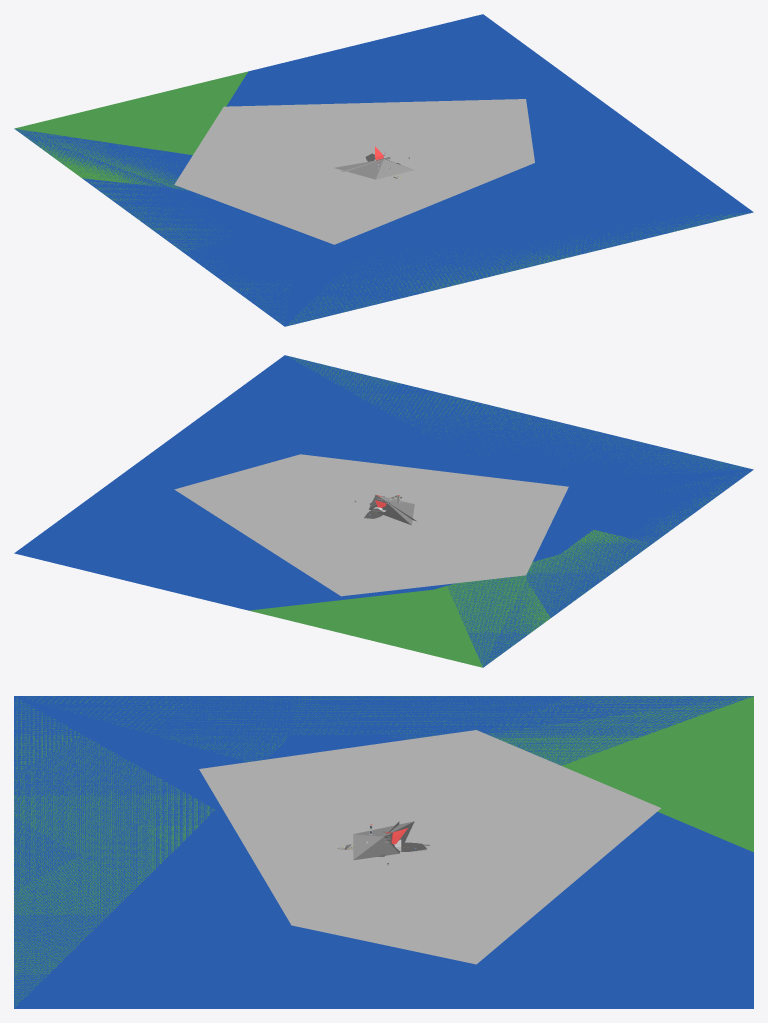
3 views of the same model, one above another, from view 1: azimuth 30°, elevation 25°; view 2: azimuth 150°, elevation 25°; view 3: azimuth 270°, elevation 25° (orthographic). The views are drawn at different scales.
Visible parts, largest first — view 1: lb_002_lod0, lb_019_lod0, lb_001_lod0, lb_006_lod0, lb_003_lod0, lb_004_lod0, lb_005_lod0, lb_009_lod0; view 2: lb_002_lod0, lb_019_lod0, lb_004_lod0, lb_003_lod0, lb_001_lod0, lb_006_lod0, lb_005_lod0, lb_009_lod0; view 3: lb_002_lod0, lb_019_lod0, lb_001_lod0, lb_004_lod0, lb_005_lod0, lb_003_lod0, lb_006_lod0, lb_009_lod0.
Part boxes in pixels (x1,y1,x2,y2): lb_002_lod0: (184, 14, 753, 326); lb_019_lod0: (174, 99, 534, 244); lb_001_lod0: (15, 129, 333, 326); lb_006_lod0: (15, 71, 248, 189); lb_003_lod0: (15, 129, 593, 326); lb_004_lod0: (14, 72, 288, 321); lb_005_lod0: (288, 212, 747, 324); lb_009_lod0: (334, 159, 414, 179); lb_002_lod0: (14, 355, 753, 610); lb_019_lod0: (174, 454, 568, 596); lb_004_lod0: (249, 471, 749, 667); lb_003_lod0: (376, 384, 752, 667); lb_001_lod0: (484, 469, 753, 666); lb_006_lod0: (259, 576, 550, 667); lb_005_lod0: (289, 356, 750, 472); lb_009_lod0: (368, 494, 414, 525); lb_002_lod0: (14, 696, 753, 1008); lb_019_lod0: (199, 730, 660, 964); lb_001_lod0: (14, 696, 752, 773); lb_004_lod0: (23, 696, 753, 851); lb_005_lod0: (14, 698, 214, 1006); lb_003_lod0: (14, 696, 752, 909); lb_006_lod0: (485, 696, 753, 852); lb_009_lod0: (353, 821, 414, 860).
Size of what is drawn, in the model's own units: 4096 by 150 by 4096.
